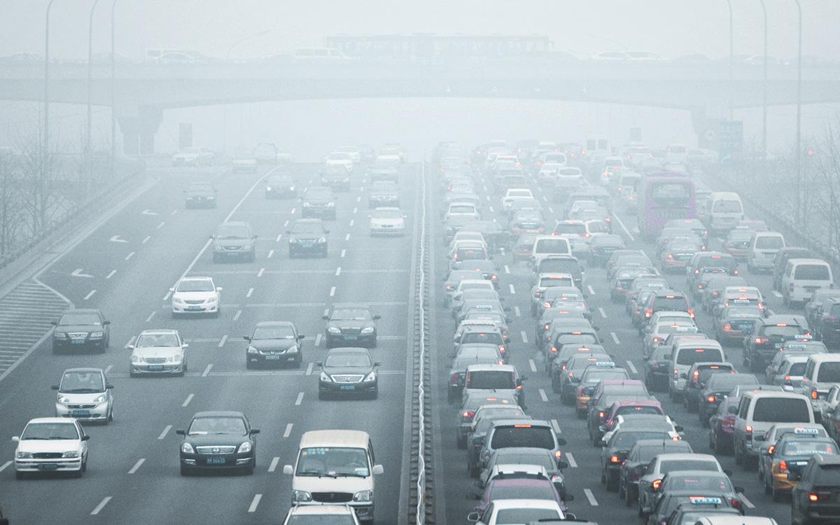bus: (322, 33, 558, 70), (633, 170, 699, 237)
car: (282, 427, 384, 522), (730, 388, 819, 469), (634, 454, 737, 523), (473, 462, 577, 524), (705, 382, 796, 452), (173, 406, 261, 477), (616, 438, 703, 507), (472, 447, 574, 505), (648, 469, 752, 525), (477, 416, 567, 480), (600, 429, 689, 491), (756, 422, 835, 491), (473, 478, 579, 525), (11, 414, 90, 477), (585, 378, 657, 447), (767, 433, 840, 499), (447, 343, 525, 402), (467, 415, 542, 475), (602, 415, 687, 467), (597, 399, 675, 455), (454, 389, 528, 446), (786, 449, 840, 525), (669, 336, 729, 402), (466, 401, 535, 458), (697, 369, 763, 428), (572, 362, 638, 420), (550, 341, 619, 395), (51, 367, 115, 425), (775, 350, 840, 406), (744, 316, 812, 369), (315, 346, 382, 399), (559, 354, 627, 406), (682, 360, 745, 416), (646, 330, 714, 381), (240, 319, 307, 370), (770, 332, 834, 385), (543, 326, 607, 377), (781, 254, 838, 311), (127, 327, 192, 374), (461, 363, 527, 409), (319, 301, 381, 349), (638, 287, 695, 339), (643, 312, 700, 361), (51, 307, 110, 354), (533, 305, 591, 351), (532, 253, 586, 300), (454, 288, 513, 329), (534, 284, 592, 325), (715, 301, 770, 344), (686, 247, 740, 290), (168, 275, 222, 318), (621, 271, 673, 315), (700, 273, 752, 317), (530, 270, 579, 316), (770, 244, 816, 292), (701, 189, 747, 236), (456, 219, 516, 255), (562, 183, 616, 223), (452, 326, 511, 362), (210, 220, 257, 264), (284, 216, 332, 259), (453, 277, 504, 317), (744, 228, 787, 275), (528, 233, 579, 272), (541, 317, 596, 353), (715, 284, 765, 322), (443, 269, 490, 309), (461, 308, 513, 343), (452, 256, 502, 292), (805, 284, 840, 335), (634, 286, 679, 325), (659, 234, 705, 272), (657, 216, 708, 250), (584, 230, 627, 269), (609, 267, 654, 304), (447, 240, 490, 278), (606, 246, 651, 282), (292, 46, 353, 72), (144, 47, 208, 71), (721, 226, 764, 261), (552, 219, 593, 255), (510, 233, 556, 264), (609, 254, 656, 284), (550, 168, 591, 202), (735, 215, 773, 250), (655, 224, 702, 252), (505, 210, 551, 238), (368, 205, 409, 235), (574, 205, 616, 234), (448, 228, 489, 257), (300, 186, 338, 217), (621, 48, 670, 72), (588, 51, 640, 73), (9, 51, 56, 75), (153, 51, 208, 71), (180, 179, 219, 207), (441, 214, 481, 241), (569, 196, 605, 225), (170, 144, 217, 166), (607, 168, 641, 198), (365, 181, 404, 207), (746, 53, 793, 74), (498, 189, 542, 211), (716, 52, 762, 73), (262, 172, 299, 198), (583, 136, 613, 168), (791, 53, 836, 74), (506, 197, 547, 220), (88, 51, 135, 71), (542, 51, 589, 71), (442, 200, 481, 224), (620, 185, 651, 213), (672, 53, 715, 72), (598, 154, 626, 182), (319, 167, 353, 190), (538, 161, 569, 185), (228, 149, 259, 171), (322, 150, 353, 172), (536, 151, 567, 173), (382, 140, 411, 163), (370, 162, 398, 185), (374, 146, 402, 168), (254, 142, 279, 166), (334, 144, 360, 163), (353, 143, 376, 163), (270, 144, 292, 163)
